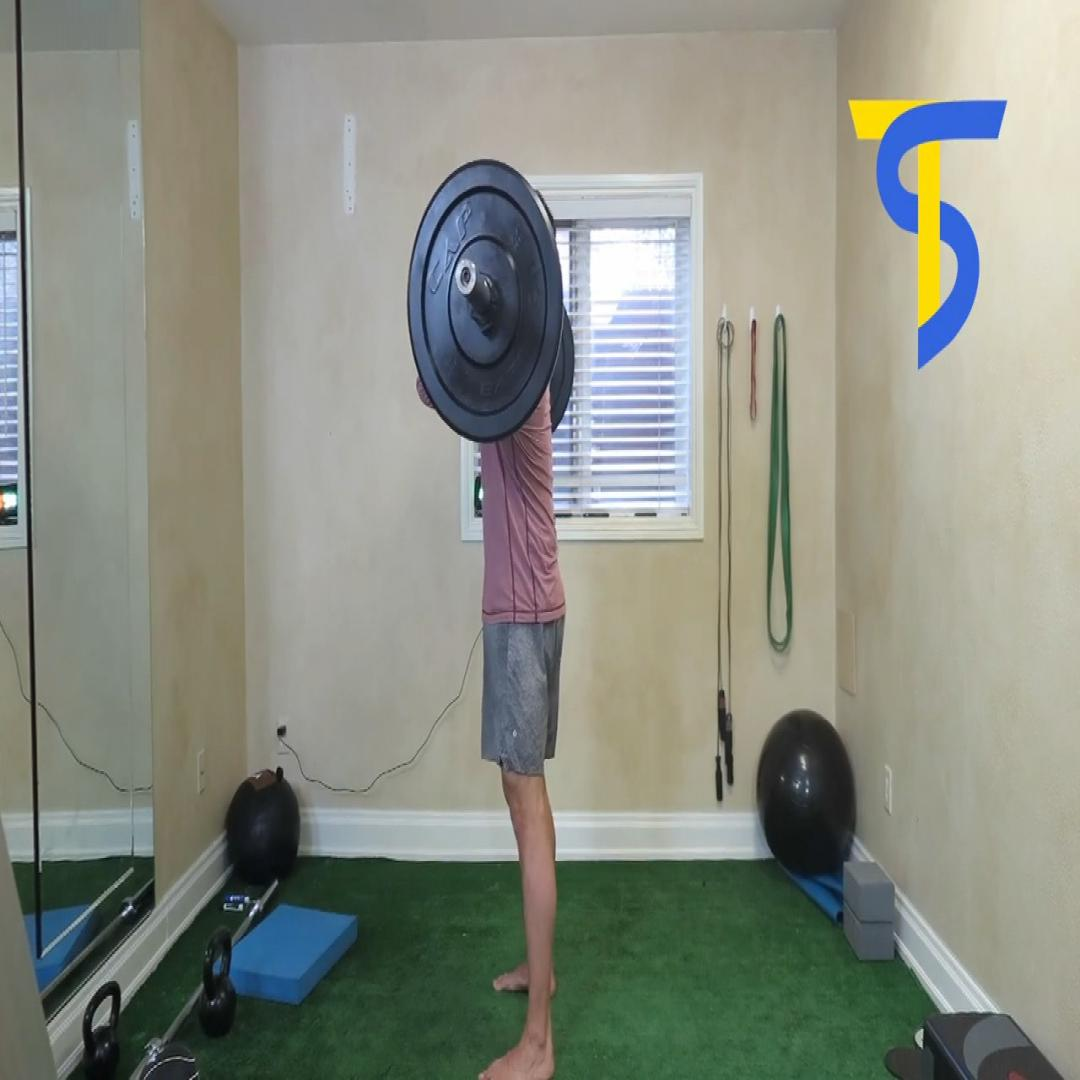Bar: (454, 257, 478, 297)
Barbell: (406, 158, 564, 444)
